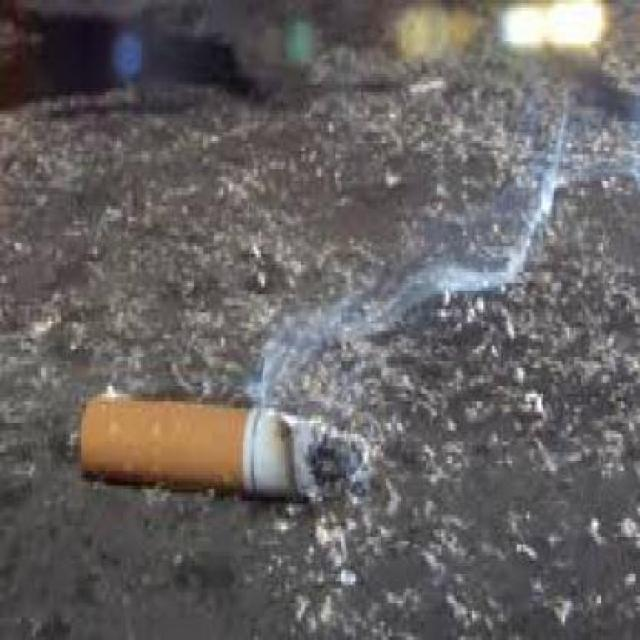cigarette: (62, 368, 393, 529)
